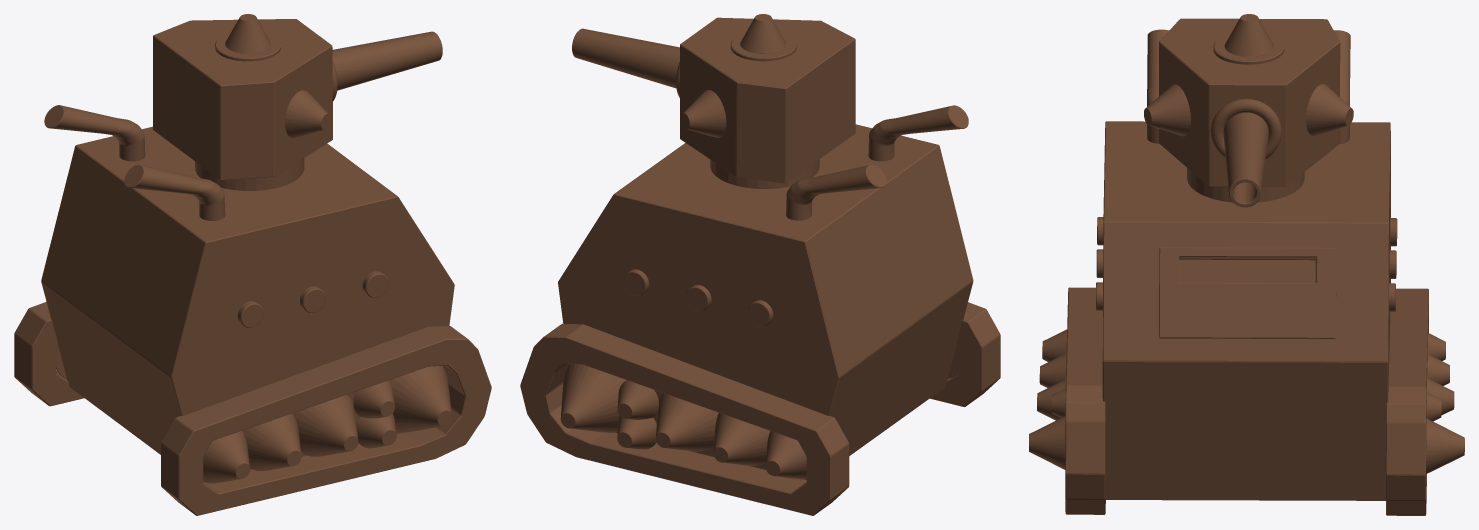
Rendered from tankie.fbx.
3 views of the same model, side by side, from view 1: azimuth 30°, elevation 25°; view 2: azimuth 150°, elevation 25°; view 3: azimuth 270°, elevation 25° (orthographic). The views are drawn at different scales.
Visible parts, largest first — view 1: Cube; view 2: Cube; view 3: Cube.
Boxes of the visible parts, box(x1,y1,x2,y2) form: Cube: box(14, 14, 491, 515); Cube: box(520, 14, 1000, 515); Cube: box(1029, 14, 1464, 515).
Bounding box in the file's own units: 303 × 336 × 305.
